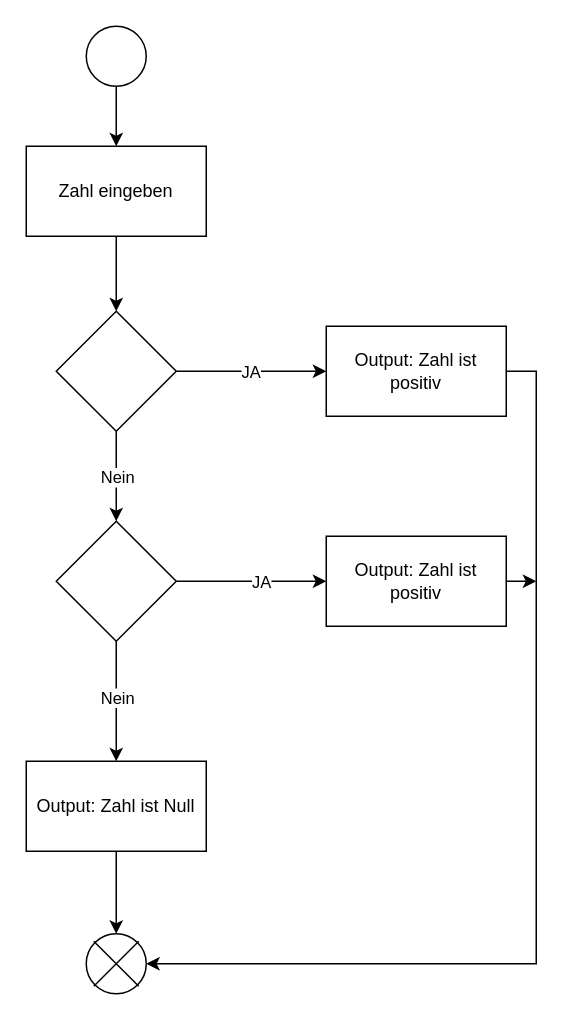
Some shapes in this 575 by 1020 pixel diagram are drawn without their labels. Each missing label, with the centre of its shape:
Zahl < 0: [115,580]
Zahl > 0: [115,370]
